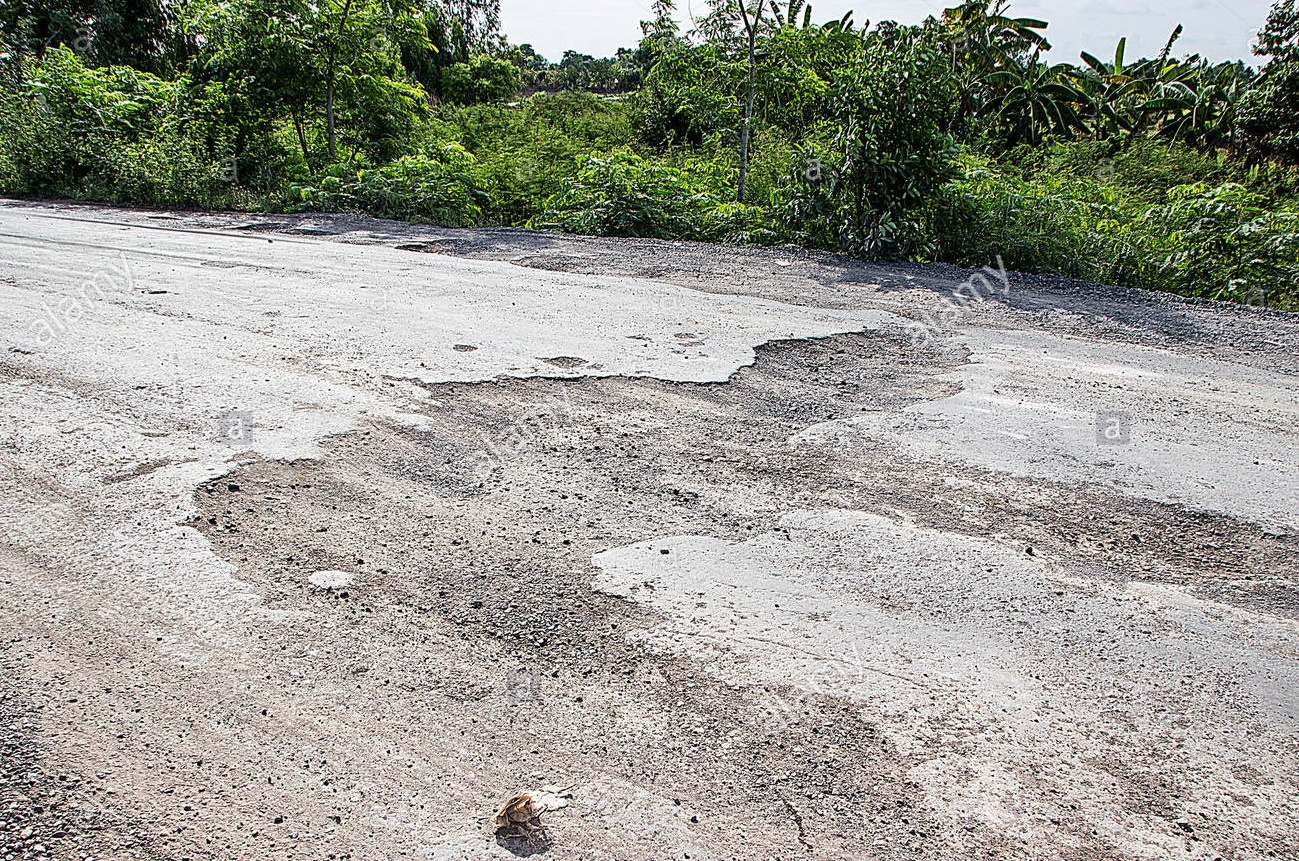pothole: (156, 205, 1048, 644)
